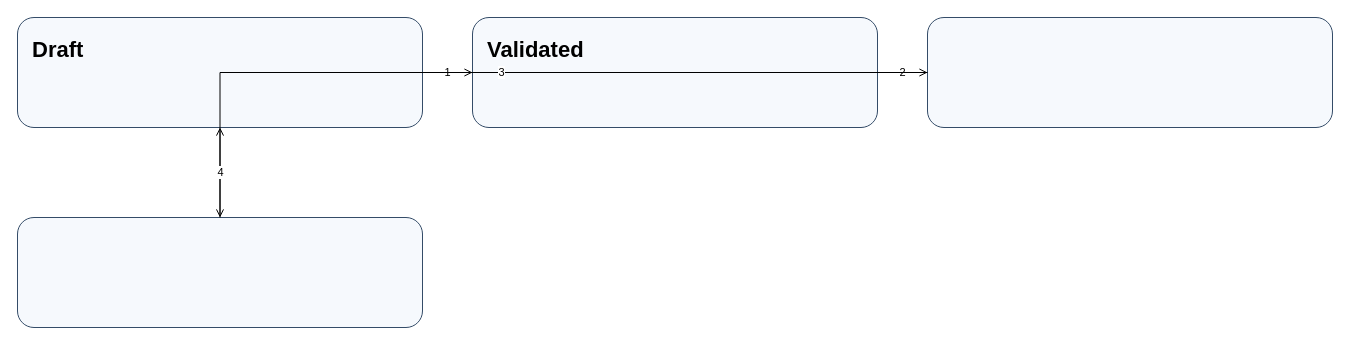
Some shapes in this 1350 by 345 pixel diagram are drawn without their labels. Here are the shapes that lost their labels. From the top down, the centre of each, then its label:
the point at 1129,72: Published
the point at 219,272: Withdrawn
